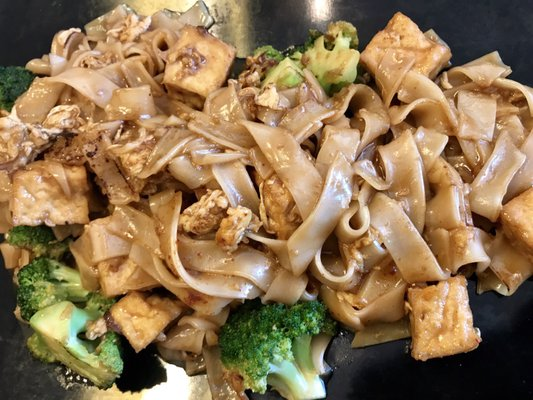curry: (14, 258, 124, 390), (218, 299, 336, 399), (15, 257, 117, 321), (0, 65, 35, 117)
